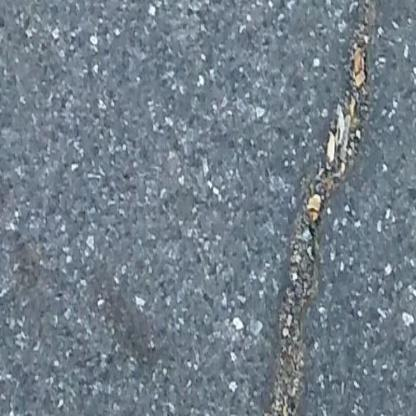Cracks: (272, 0, 378, 416)
